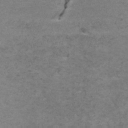finishing roll printing: (58, 0, 69, 20)
